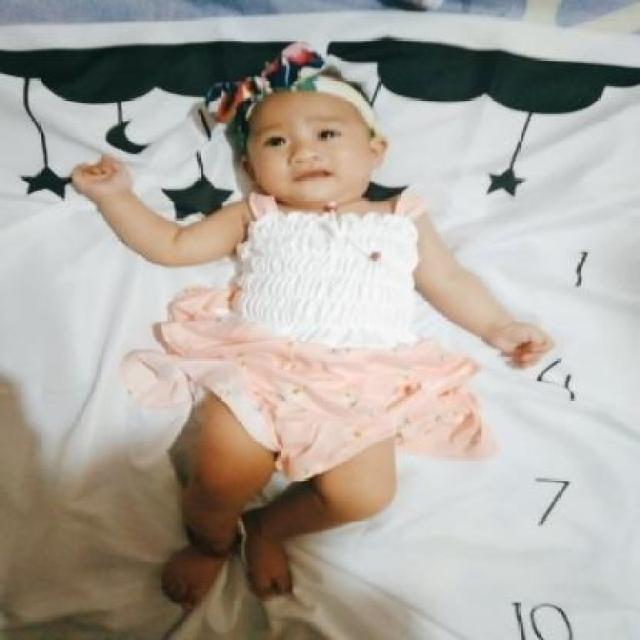baby: (70, 42, 556, 600)
